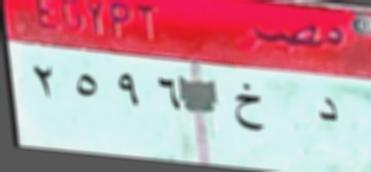2: (30, 60, 59, 106)
5: (70, 70, 106, 106)
6: (150, 75, 186, 114)
9: (114, 65, 143, 113)
daal: (313, 95, 346, 131)
khaa: (224, 81, 269, 138)
